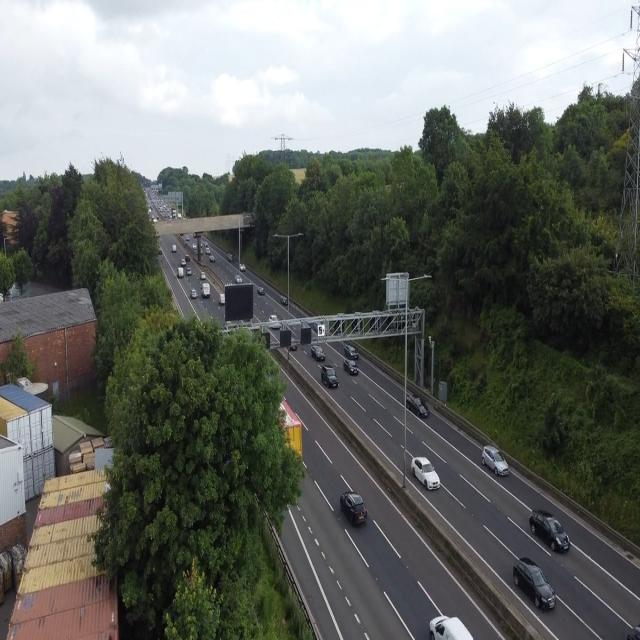Car: (512, 551, 554, 611), (530, 504, 570, 556), (409, 452, 442, 496), (430, 607, 471, 640), (339, 485, 368, 530), (482, 438, 510, 483), (403, 385, 430, 425), (320, 362, 340, 392), (341, 354, 359, 378), (310, 338, 326, 363), (344, 340, 359, 360), (277, 289, 290, 311), (255, 282, 265, 300), (188, 289, 198, 303), (232, 272, 242, 285), (238, 261, 246, 275), (218, 292, 225, 308), (200, 269, 207, 283), (177, 264, 183, 280), (207, 253, 216, 263), (185, 266, 192, 277)
Truck: (200, 280, 210, 300)
